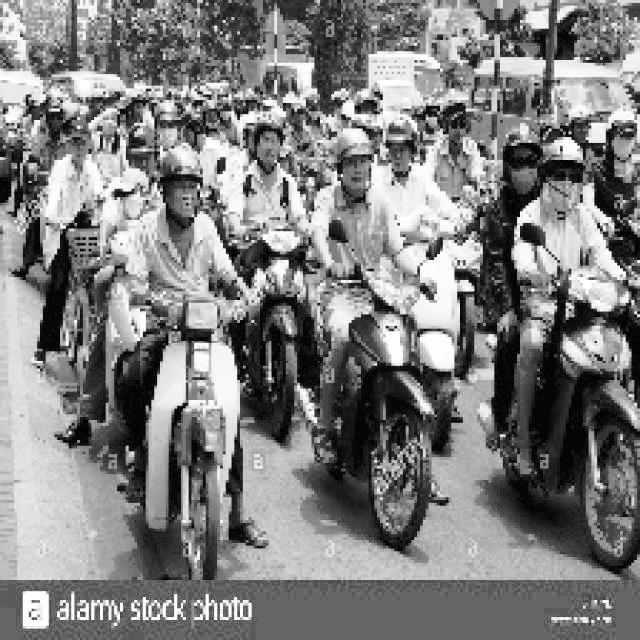Bike: (484, 285, 634, 543), (326, 249, 442, 547), (137, 289, 243, 587), (245, 215, 324, 433)
